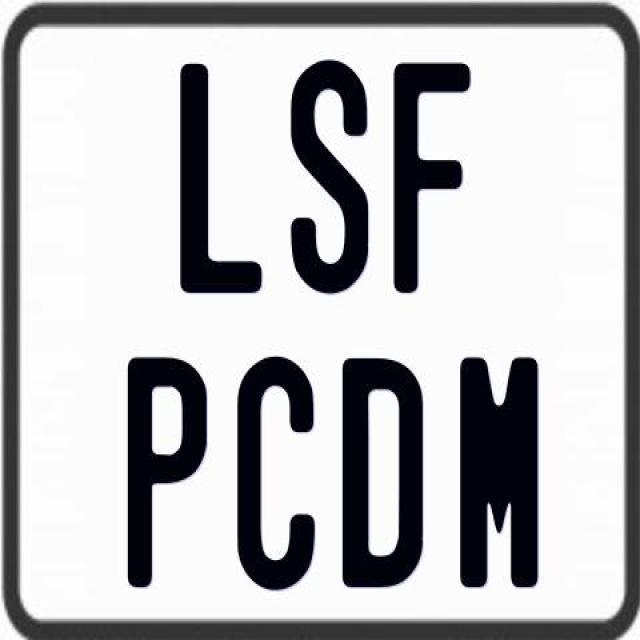C: (237, 353, 315, 588)
D: (342, 358, 426, 594)
F: (389, 58, 467, 294)
L: (178, 64, 260, 299)
M: (456, 356, 540, 590)
P: (124, 354, 203, 590)
S: (286, 58, 369, 292)
